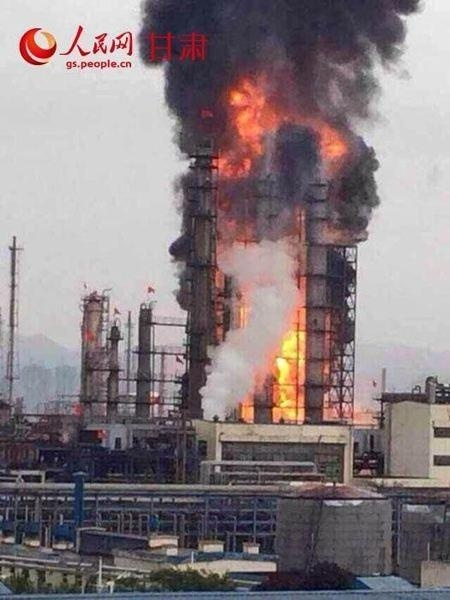fire: (208, 78, 351, 176), (273, 324, 308, 411)
